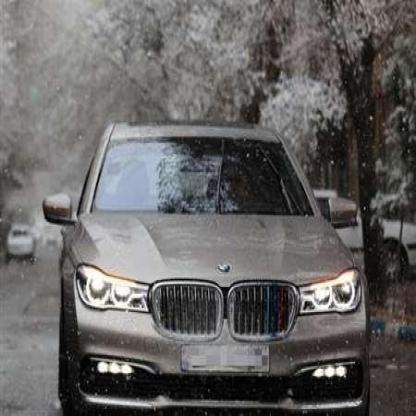Car: (51, 116, 363, 416), (299, 183, 416, 292), (5, 216, 45, 266)
